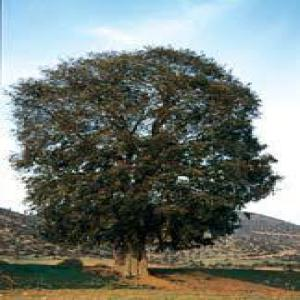Tree: (6, 42, 274, 276)
